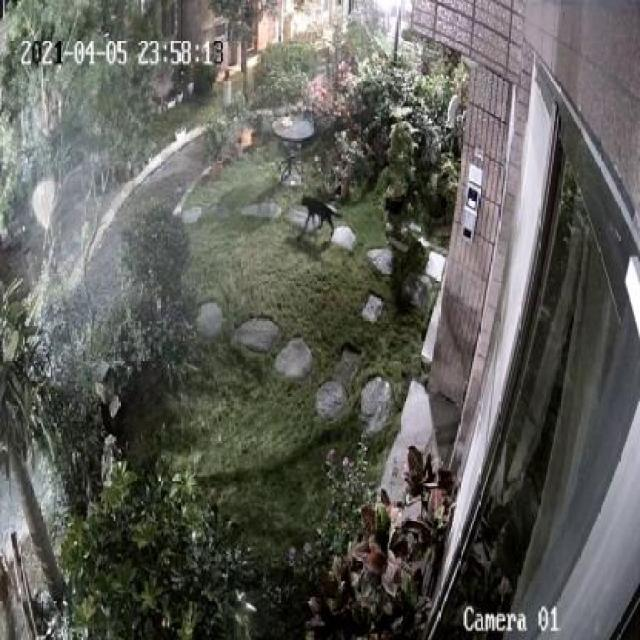animals: (297, 191, 346, 240)
